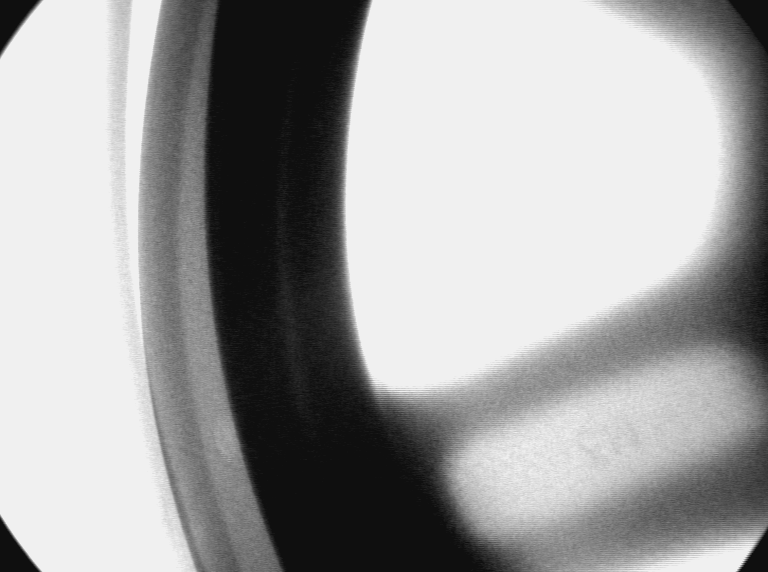defect: (209, 414, 252, 472)
